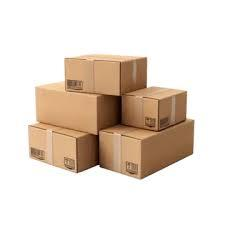plastic: (29, 77, 123, 137), (100, 120, 193, 178), (21, 121, 103, 175), (63, 54, 147, 96), (122, 87, 186, 130)
